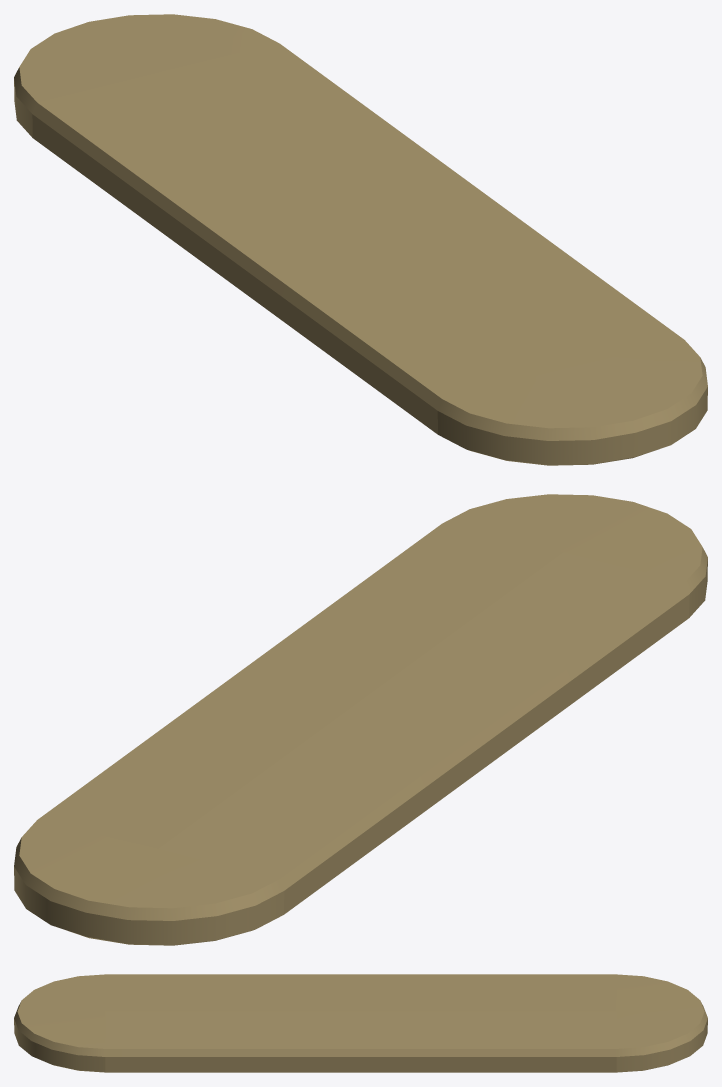
The model's file is G_Metal_01.fbx.
The picture shows the model from 3 angles, top to bottom: view 1: azimuth 30°, elevation 25°; view 2: azimuth 150°, elevation 25°; view 3: azimuth 270°, elevation 25°; orthographic projection. The views are drawn at different scales.
Visible parts, largest first — view 1: G_Metal_01; view 2: G_Metal_01; view 3: G_Metal_01.
Part boxes in pixels (<box>): G_Metal_01: <box>14,14,707,465</box>; G_Metal_01: <box>14,494,707,945</box>; G_Metal_01: <box>14,974,707,1072</box>.
Size of the model in its own units: 7.85 by 1.17 by 29.71.
